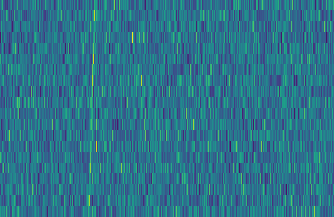signal: (83, 0, 97, 217)
